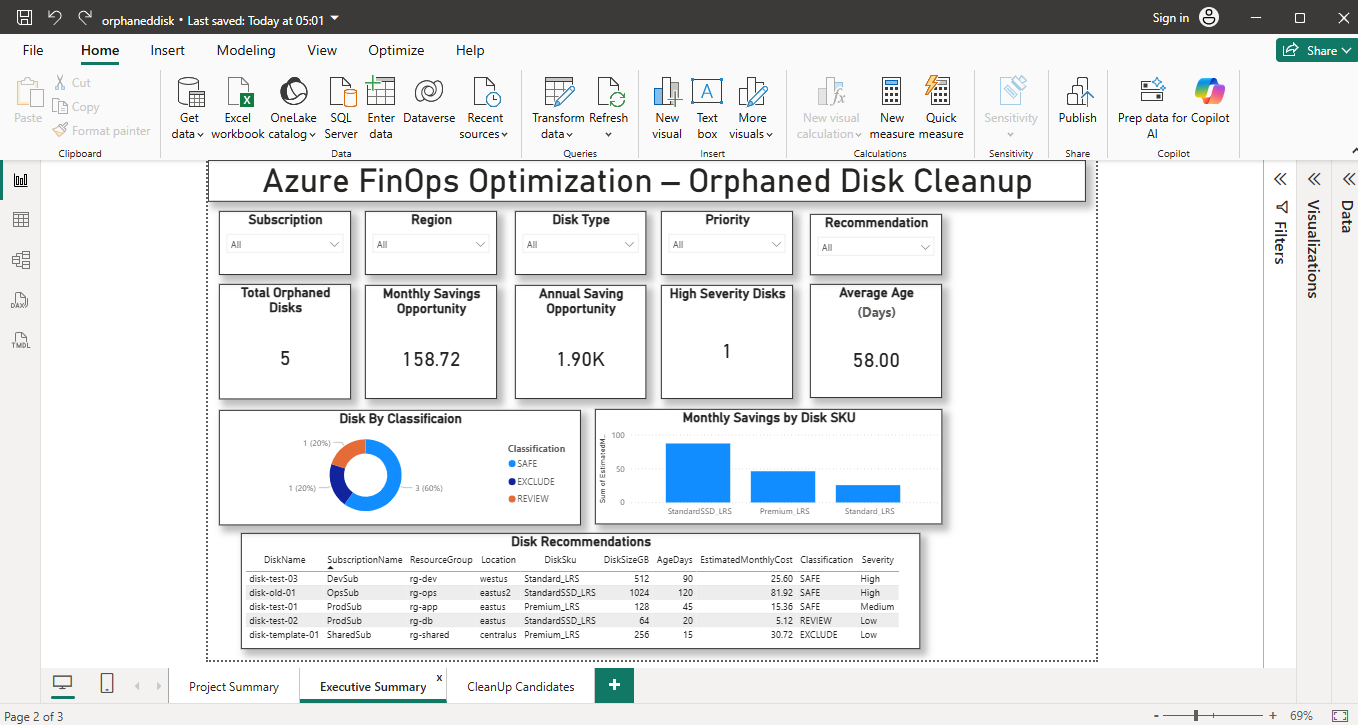

This screenshot's page, from the dashboard's own definition file:
{"tool":"powerbi","page":{"name":"Executive Summary","canvas":[1280,720],"ordinal":1},"visuals":[{"type":"tableEx","title":"Disk Recommendations","fields":{"Values":["DiskRecommendations.DiskName","DiskRecommendations.SubscriptionName","DiskRecommendations.ResourceGroup","DiskRecommendations.Location","DiskRecommendations.DiskSku","DiskRecommendations.DiskSizeGB","DiskRecommendations.AgeDays","DiskRecommendations.EstimatedMonthlyCost","DiskRecommendations.Classification","DiskRecommendations.Severity"]},"box":[47.5,537.1,977.8,167],"z":0},{"type":"card","title":"Total Orphaned Disks","fields":{"Values":["DiskRecommendations.Total Orphaned Disk Count"]},"box":[15.8,178.6,190.1,165.6],"z":1000},{"type":"card","title":"Monthly Savings Opportunity","fields":{"Values":["Sum(DiskRecommendations.EstimatedMonthlyCost)"]},"box":[226.1,180,190.1,164.2],"z":2000},{"type":"card","title":"Annual Saving Opportunity","fields":{"Values":["DiskRecommendations.Annual Savings"]},"box":[442.1,180,188.6,164.2],"z":3000},{"type":"card","title":"High Severity Disks","fields":{"Values":["DiskRecommendations.ExcludeDisks"]},"box":[652.3,180,190.1,164.2],"z":4000},{"type":"card","title":"Average Age","fields":{"Values":["DiskRecommendations.Average Age of Orphaned Disks"]},"box":[866.9,178.6,190.1,164.2],"z":5000},{"type":"donutChart","title":"Disk By Classificaion","fields":{"Category":["DiskRecommendations.Classification"],"Y":["CountNonNull(DiskRecommendations.DiskName)"]},"box":[15.8,360,521.3,165.6],"z":6000},{"type":"clusteredColumnChart","title":"Monthly Savings by Disk SKU","fields":{"Category":["DiskRecommendations.DiskSku"],"Y":["Sum(DiskRecommendations.EstimatedMonthlyCost)"]},"box":[557.3,358.6,499.7,165.6],"z":7000},{"type":"slicer","title":"Subscription","fields":{"Values":["DiskRecommendations.SubscriptionName"]},"box":[15.8,73.4,190.1,92.2],"z":8000},{"type":"slicer","title":"Region","fields":{"Values":["DiskRecommendations.Location"]},"box":[226.1,73.4,190.1,92.2],"z":9000},{"type":"slicer","title":"Disk Type","fields":{"Values":["DiskRecommendations.DiskSku"]},"box":[442.1,73.4,188.6,92.2],"z":10000},{"type":"slicer","title":"Recommendation","fields":{"Values":["DiskRecommendations.Classification"]},"box":[866.9,77.8,190.1,87.8],"z":11000},{"type":"slicer","title":"Priority","fields":{"Values":["DiskRecommendations.Severity"]},"box":[652.3,73.4,190.1,92.2],"z":12000},{"type":"textbox","title":"Azure FinOps Optimization – Orphaned Disk Cleanup","box":[0,0,1264.3,60.5],"z":13000}]}

Visuals, with their boxes on the page's 1280x720 design canvas (x1, y1, x2, y2). These are canvas units, not pixel positions in the 1358x725 screenshot, which may show the page scaled, cropped or inside an application window:
"Disk Recommendations" tableEx: (left=48, top=537, right=1025, bottom=704)
"Total Orphaned Disks" card: (left=16, top=179, right=206, bottom=344)
"Monthly Savings Opportunity" card: (left=226, top=180, right=416, bottom=344)
"Annual Saving Opportunity" card: (left=442, top=180, right=631, bottom=344)
"High Severity Disks" card: (left=652, top=180, right=842, bottom=344)
"Average Age" card: (left=867, top=179, right=1057, bottom=343)
"Disk By Classificaion" donutChart: (left=16, top=360, right=537, bottom=526)
"Monthly Savings by Disk SKU" clusteredColumnChart: (left=557, top=359, right=1057, bottom=524)
"Subscription" slicer: (left=16, top=73, right=206, bottom=166)
"Region" slicer: (left=226, top=73, right=416, bottom=166)
"Disk Type" slicer: (left=442, top=73, right=631, bottom=166)
"Recommendation" slicer: (left=867, top=78, right=1057, bottom=166)
"Priority" slicer: (left=652, top=73, right=842, bottom=166)
"Azure FinOps Optimization – Orphaned Disk Cleanup" textbox: (left=0, top=0, right=1264, bottom=60)
